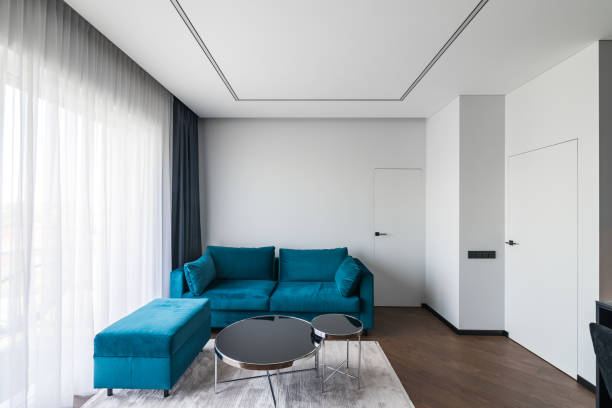sofa: (167, 243, 376, 336)
table: (207, 310, 317, 407), (312, 313, 371, 401)
